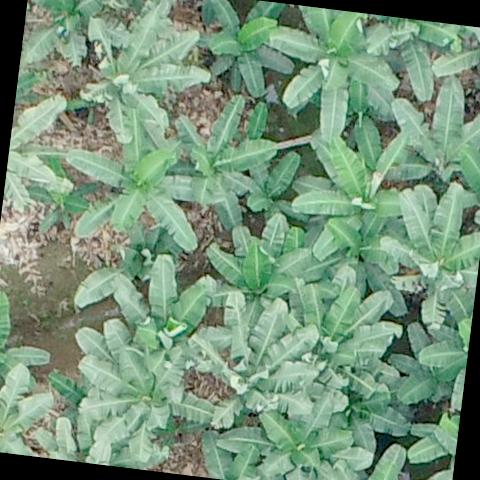Banana-plant: (57, 107, 216, 255), (73, 8, 218, 154), (80, 322, 223, 470), (185, 288, 320, 436), (266, 6, 404, 148), (280, 275, 408, 410), (292, 135, 416, 270), (215, 384, 378, 480), (168, 92, 280, 224), (100, 254, 218, 376), (386, 179, 480, 331), (385, 74, 480, 191), (208, 214, 313, 316), (201, 0, 298, 98), (20, 0, 107, 69), (0, 352, 56, 458), (30, 161, 100, 238)
